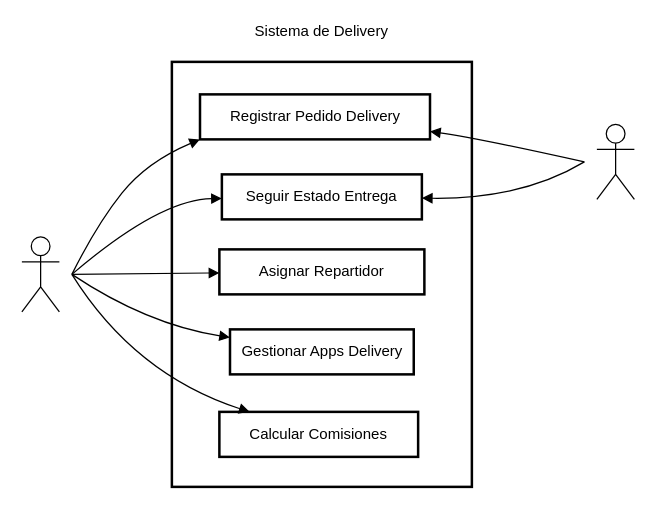
This 663x509 diagram has some shape labels left out. The shapes that lost their labels are listed below. From the top down, each one's centre as x and y in pixels, then its label:
(x=615, y=161): Mesero
(x=40, y=274): Jefe de Local
